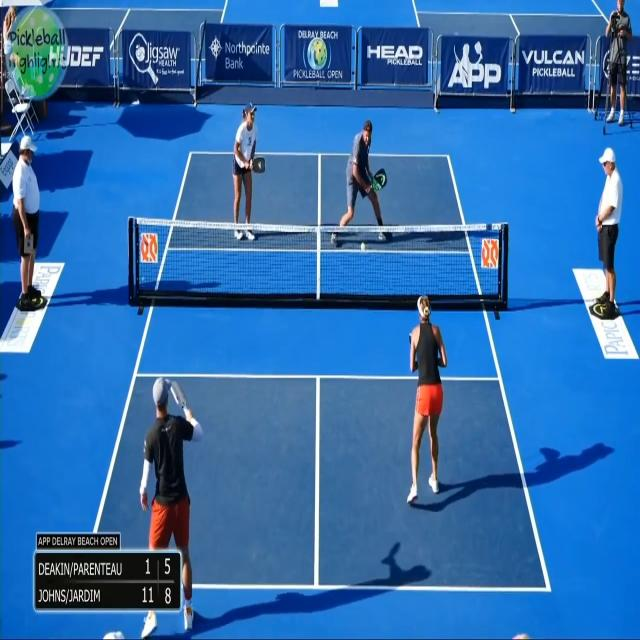ball: (359, 235, 369, 263)
